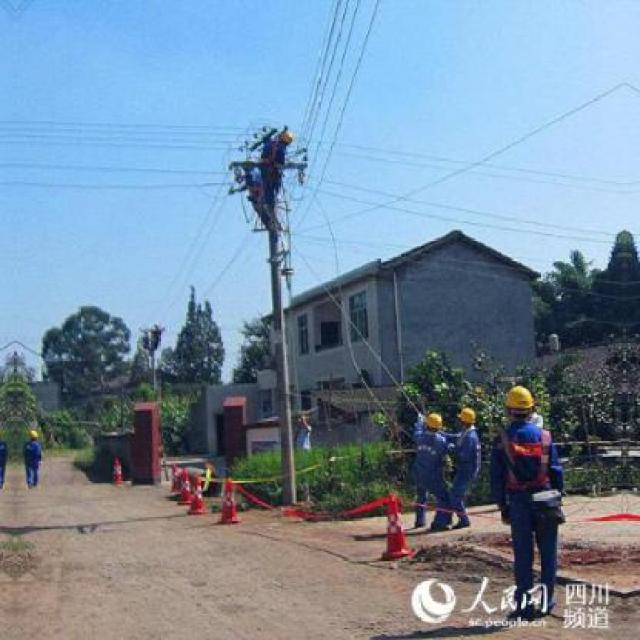helmet: (499, 378, 538, 422), (451, 402, 478, 432), (272, 123, 294, 148), (420, 408, 438, 434), (23, 426, 39, 442), (0, 425, 6, 443)
